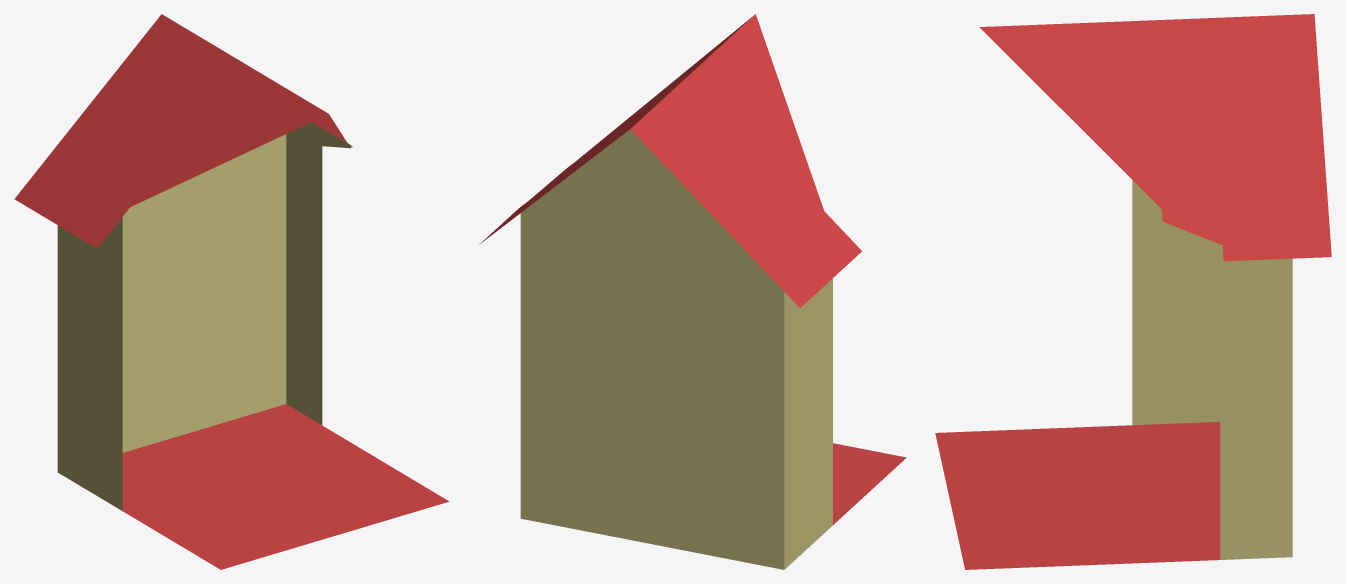
3 views of the same model, side by side, from view 1: azimuth 30°, elevation 25°; view 2: azimuth 150°, elevation 25°; view 3: azimuth 270°, elevation 25° (orthographic). The views are drawn at different scales.
Bounding box in the file's own units: 8.44 × 8.24 × 10.96.
